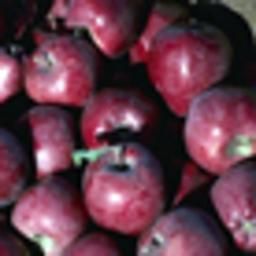apple: (81, 141, 167, 235), (146, 24, 234, 112), (183, 87, 256, 175)
